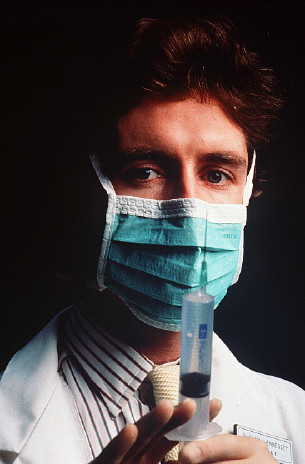face_mask: (105, 103, 248, 329)
